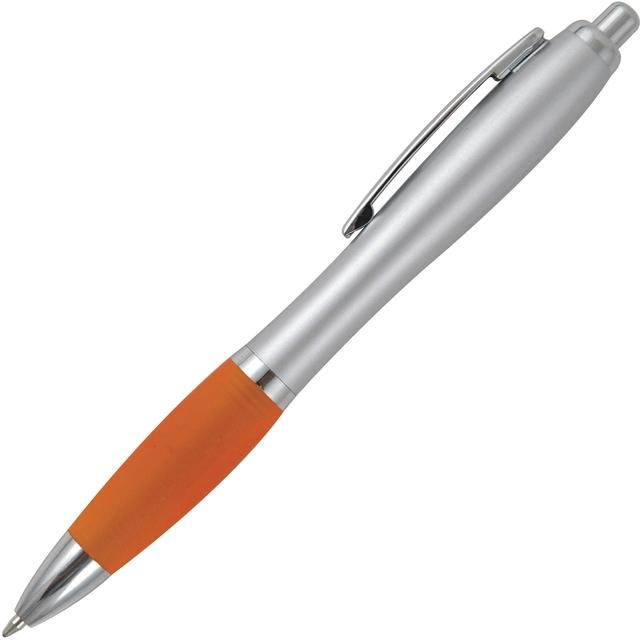pen: (2, 12, 636, 636)
